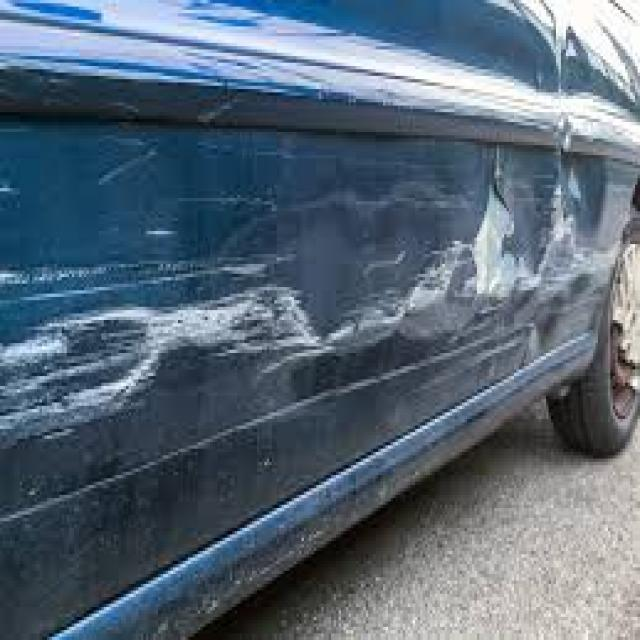dent-or-scratch: (0, 124, 621, 439)
